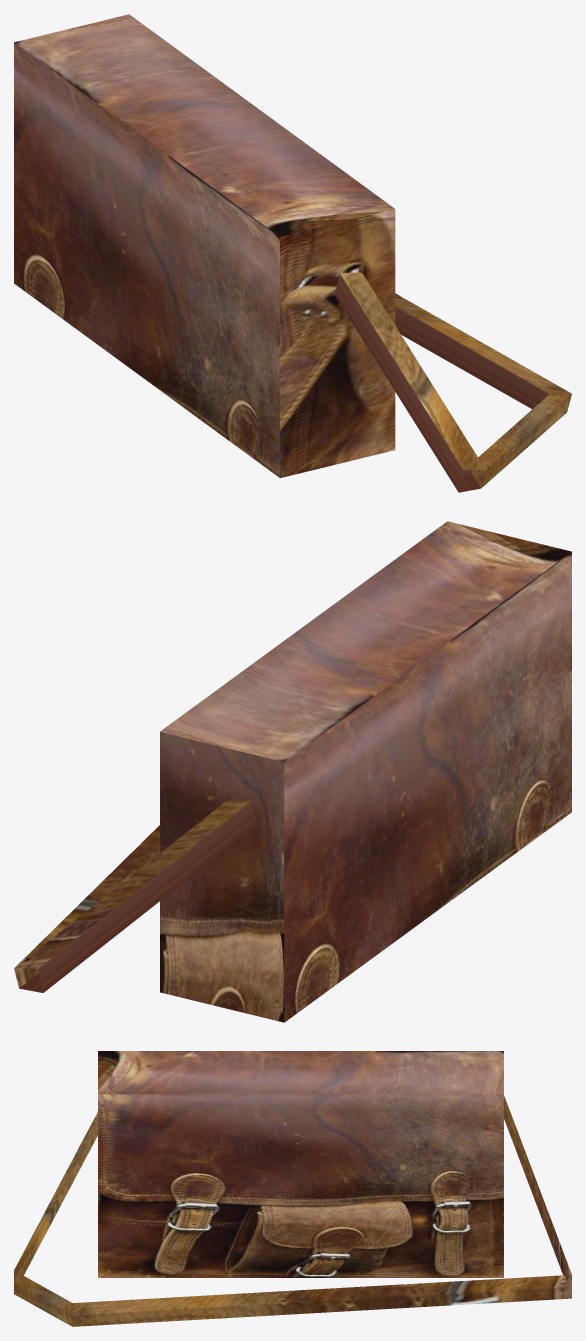
Rendered from backpack.glb.
3 renders of one model, top to bottom at view 1: azimuth 30°, elevation 25°; view 2: azimuth 150°, elevation 25°; view 3: azimuth 270°, elevation 25°, orthographic. The views are drawn at different scales.
Parts seen in each view (by area): view 1: Cube; view 2: Cube; view 3: Cube.
Part boxes in pixels (x1,y1,x2,y2): Cube: (14,14,571,492); Cube: (14,521,571,1022); Cube: (14,1051,571,1326).
Size of the model in its own units: 1.2 by 1.02 by 2.75.
1 material, 1 textured.
